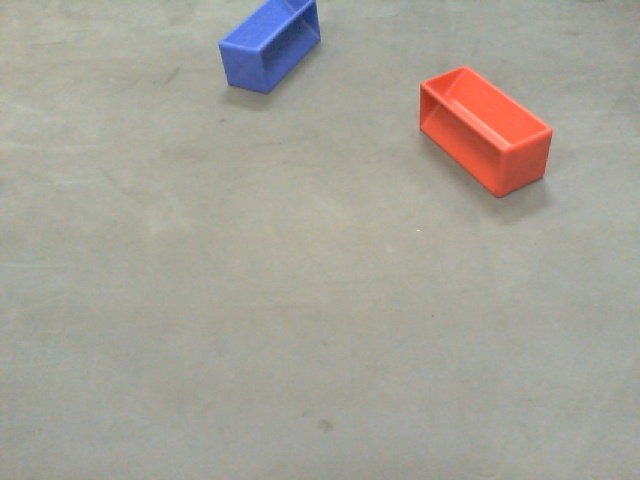BlueSample: (218, 1, 322, 97)
RedSample: (416, 65, 552, 202)
